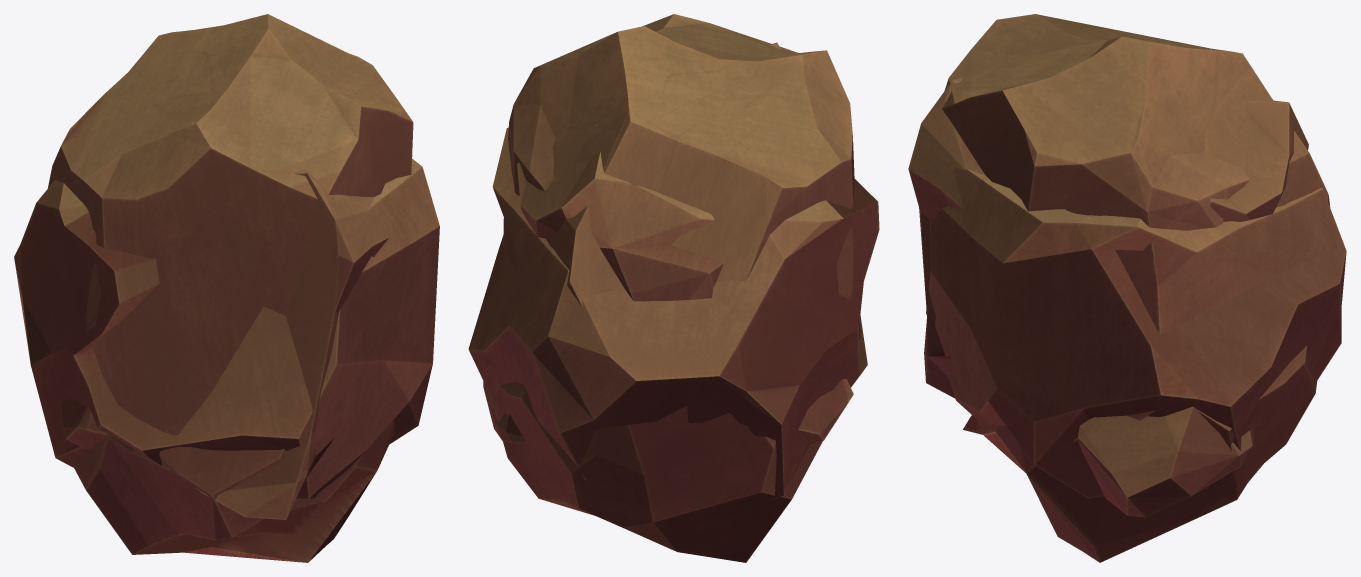
The model's file is Rochas.fbx.
3 views of the same model, side by side, from view 1: azimuth 30°, elevation 25°; view 2: azimuth 150°, elevation 25°; view 3: azimuth 270°, elevation 25° (orthographic). The views are drawn at different scales.
Visible parts, largest first — view 1: Cube, Cube.001, Cube.002; view 2: Cube, Cube.001, Cube.002; view 3: Cube.001, Cube, Cube.002.
Part boxes in pixels (bbox=[...]): Cube: bbox=[48, 14, 413, 562]; Cube.001: bbox=[14, 158, 439, 498]; Cube.002: bbox=[60, 169, 389, 519]; Cube: bbox=[492, 14, 860, 562]; Cube.001: bbox=[468, 127, 879, 501]; Cube.002: bbox=[483, 42, 853, 446]; Cube.001: bbox=[926, 167, 1346, 498]; Cube: bbox=[942, 14, 1330, 562]; Cube.002: bbox=[908, 78, 1308, 517].
Size of the model in its own units: 553 by 783 by 620.
